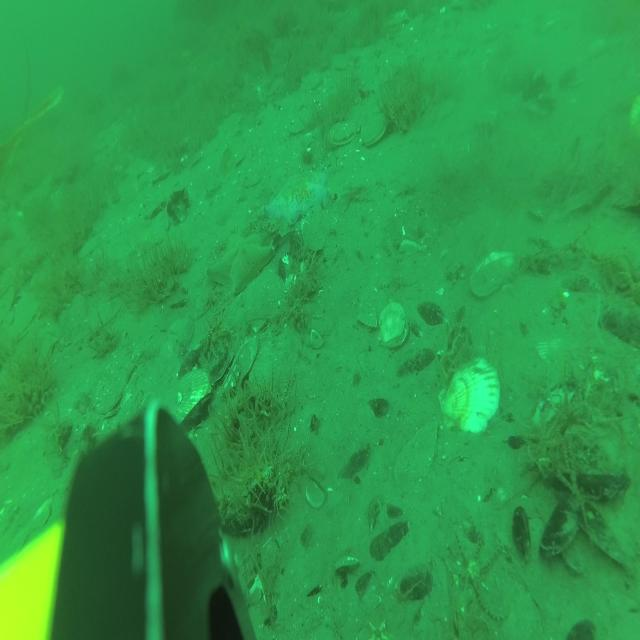scallop: (437, 358, 501, 436), (162, 371, 213, 426), (469, 250, 514, 298), (95, 364, 127, 417), (380, 304, 410, 345), (360, 110, 388, 148), (326, 123, 358, 147)
starfish: (208, 230, 276, 294), (266, 167, 332, 226)
